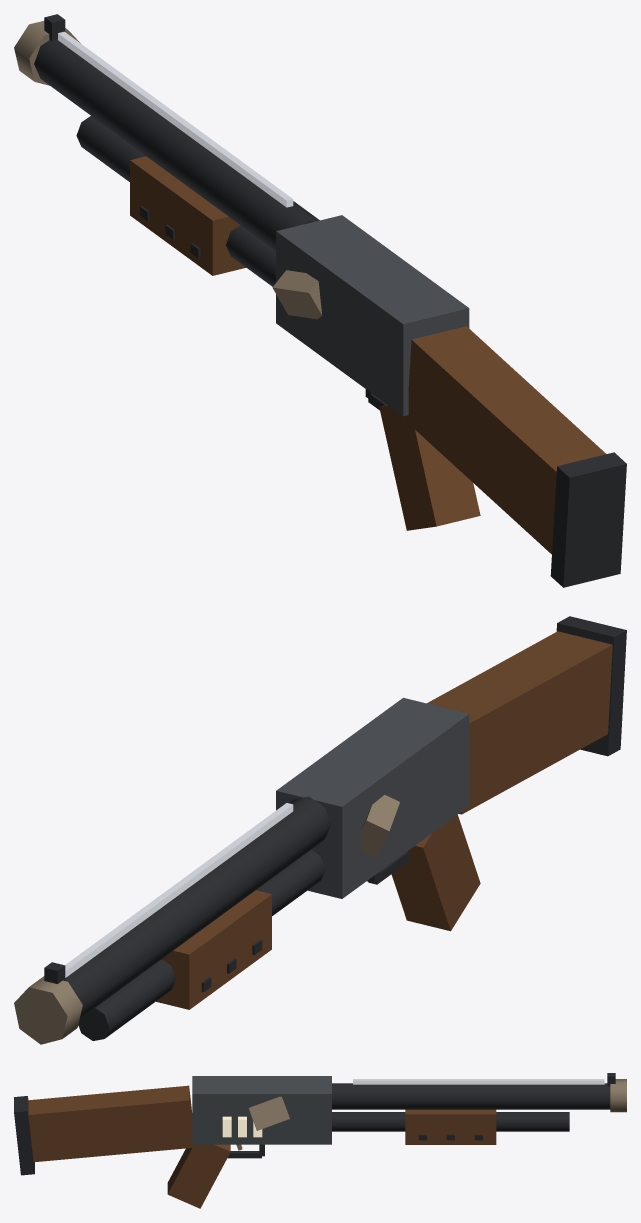
Rendered from BO_SK_Weapon_Shotgun_v001.glb.
3 renders of one model, top to bottom at view 1: azimuth 30°, elevation 25°; view 2: azimuth 150°, elevation 25°; view 3: azimuth 270°, elevation 25°, orthographic. The views are drawn at different scales.
Visible parts, largest first — view 1: body_014, body_000, body_003, body_015, body_006, body_010, body_004, glowfx_016, body_002, body_005; view 2: body_000, body_014, body_003, body_006, body_010, body_004, body_005, glowfx_016, body_015, body_002; view 3: body_014, body_000, body_003, body_006, body_004, body_010, glowfx_016, body_015, body_001, body_005, body_011, glowfx_018.
Boxes of the visible parts, left/top/right/bottom form: body_014: left=406, top=326, right=606, bottom=554; body_000: left=276, top=215, right=469, bottom=416; body_003: left=34, top=38, right=319, bottom=250; body_015: left=550, top=452, right=626, bottom=587; body_006: left=130, top=156, right=245, bottom=275; body_010: left=379, top=405, right=480, bottom=530; body_004: left=76, top=116, right=275, bottom=286; glowfx_016: left=58, top=31, right=293, bottom=207; body_002: left=272, top=270, right=322, bottom=319; body_005: left=14, top=21, right=80, bottom=85; body_000: left=276, top=697, right=469, bottom=898; body_014: left=427, top=631, right=612, bottom=814; body_003: left=65, top=796, right=330, bottom=1018; body_006: left=156, top=890, right=271, bottom=1009; body_010: left=391, top=814, right=480, bottom=931; body_004: left=78, top=850, right=325, bottom=1040; body_005: left=14, top=976, right=82, bottom=1044; glowfx_016: left=65, top=803, right=293, bottom=977; body_015: left=556, top=616, right=626, bottom=756; body_002: left=360, top=795, right=399, bottom=857; body_014: left=28, top=1085, right=194, bottom=1162; body_000: left=192, top=1076, right=331, bottom=1144; body_003: left=332, top=1083, right=610, bottom=1109; body_006: left=405, top=1109, right=496, bottom=1144; body_004: left=332, top=1112, right=569, bottom=1131; body_010: left=167, top=1144, right=230, bottom=1208; glowfx_016: left=353, top=1079, right=604, bottom=1084; body_015: left=14, top=1096, right=34, bottom=1175; body_001: left=248, top=1096, right=289, bottom=1130; body_005: left=610, top=1079, right=626, bottom=1112; body_011: left=227, top=1151, right=261, bottom=1158; glowfx_018: left=222, top=1116, right=231, bottom=1137.
Bounding box in the file's own units: 0.1058 × 0.2023 × 0.8769.
